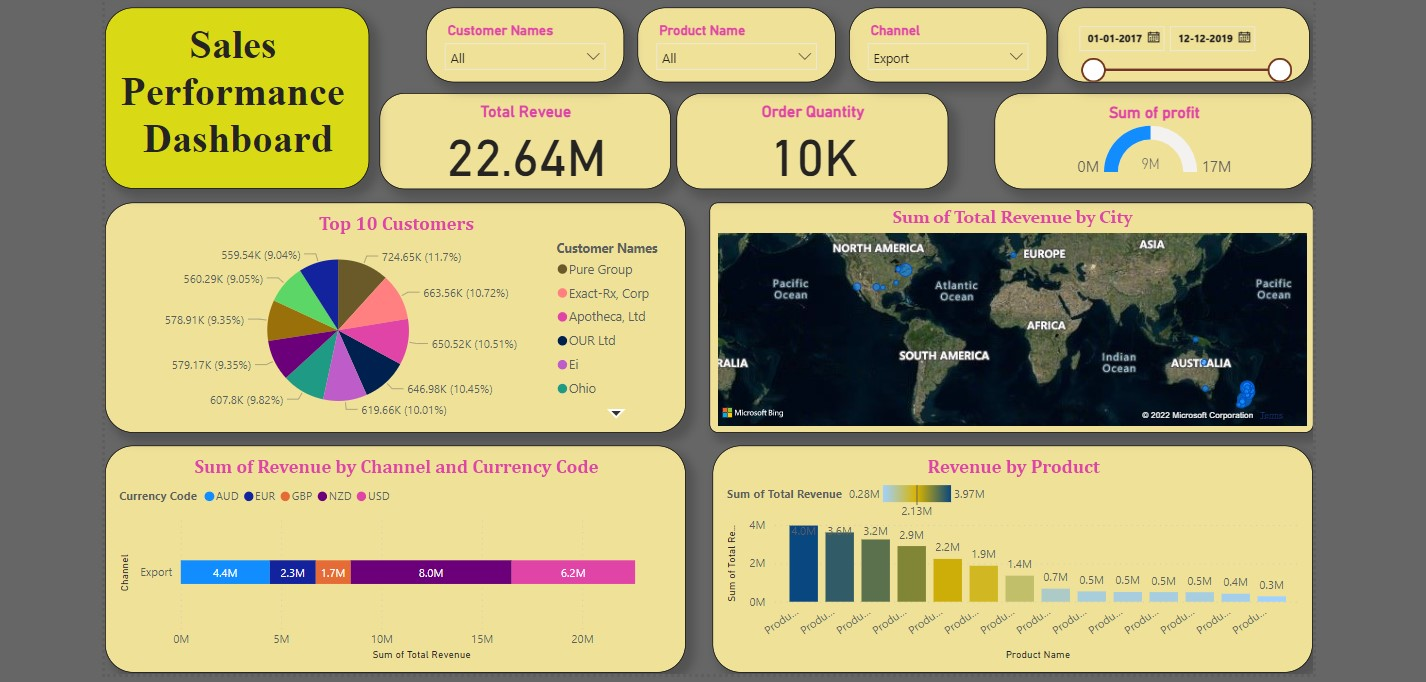

This screenshot's page, from the dashboard's own definition file:
{"tool":"powerbi","page":{"name":"Page 1","canvas":[1280,720],"ordinal":0},"visuals":[{"type":"barChart","title":"Sum of Revenue by Channel and Currency Code","fields":{"Category":["Sales_Data.Channel"],"Y":["Sum(Sales_Data.Total Revenue)"],"Series":["Sales_Data.Currency Code"]},"box":[0,479.1,615.4,240.5],"z":0},{"type":"columnChart","title":"Revenue by Product","fields":{"Category":["Products_Data.Product Name"],"Y":["Sum(Sales_Data.Total Revenue)"]},"box":[643.8,479.1,636.2,240.5],"z":1},{"type":"pieChart","title":"Top 10 Customers","fields":{"Y":["Sum(Sales_Data.Total Revenue)"],"Category":["Customer_Data.Customer Names"]},"box":[0,221.5,615.4,244.3],"z":2},{"type":"map","fields":{"Category":["Regions_Table.City"],"Size":["Sum(Sales_Data.Total Revenue)"]},"box":[640,221.5,640,244.3],"z":3},{"type":"card","title":"Total Reveue","fields":{"Values":["Sum(Sales_Data.Total Revenue)"]},"box":[290.9,104.9,308.3,101.7],"z":4},{"type":"card","title":"Order Quantity","fields":{"Values":["Sum(Sales_Data.Order Quantity)"]},"box":[605.6,104.9,287.7,101.7],"z":5},{"type":"gauge","fields":{"Y":["Sum(Sales_Data.profit)"]},"box":[942.5,104.9,337,101.7],"z":6},{"type":"slicer","fields":{"Values":["Sales_Data.OrderDate"]},"box":[1009.3,14.3,267,79.5],"z":7},{"type":"slicer","fields":{"Values":["Sales_Data.Channel"]},"box":[788.3,14.3,209.8,79.5],"z":8},{"type":"slicer","fields":{"Values":["Products_Data.Product Name"]},"box":[564.2,14.3,209.8,79.5],"z":9},{"type":"slicer","fields":{"Values":["Customer_Data.Customer Names"]},"box":[340.1,14.3,209.8,79.5],"z":10},{"type":"textbox","box":[0,14.3,279.7,192.3],"z":11}]}

Visuals, with their boxes in screenshot pixels (x1, y1, x2, y2):
"Sum of Revenue by Channel and Currency Code" barChart: box(104, 441, 680, 666)
"Revenue by Product" columnChart: box(707, 441, 1302, 666)
"Top 10 Customers" pieChart: box(104, 200, 680, 429)
map - Regions_Table.City x Sum(Sales_Data.Total Revenue): box(703, 200, 1302, 429)
"Total Reveue" card: box(376, 91, 665, 186)
"Order Quantity" card: box(671, 91, 940, 186)
gauge - Sum(Sales_Data.profit): box(986, 91, 1301, 186)
slicer - Sales_Data.OrderDate: box(1049, 6, 1298, 80)
slicer - Sales_Data.Channel: box(842, 6, 1038, 80)
slicer - Products_Data.Product Name: box(632, 6, 828, 80)
slicer - Customer_Data.Customer Names: box(422, 6, 619, 80)
textbox: box(104, 6, 366, 186)
